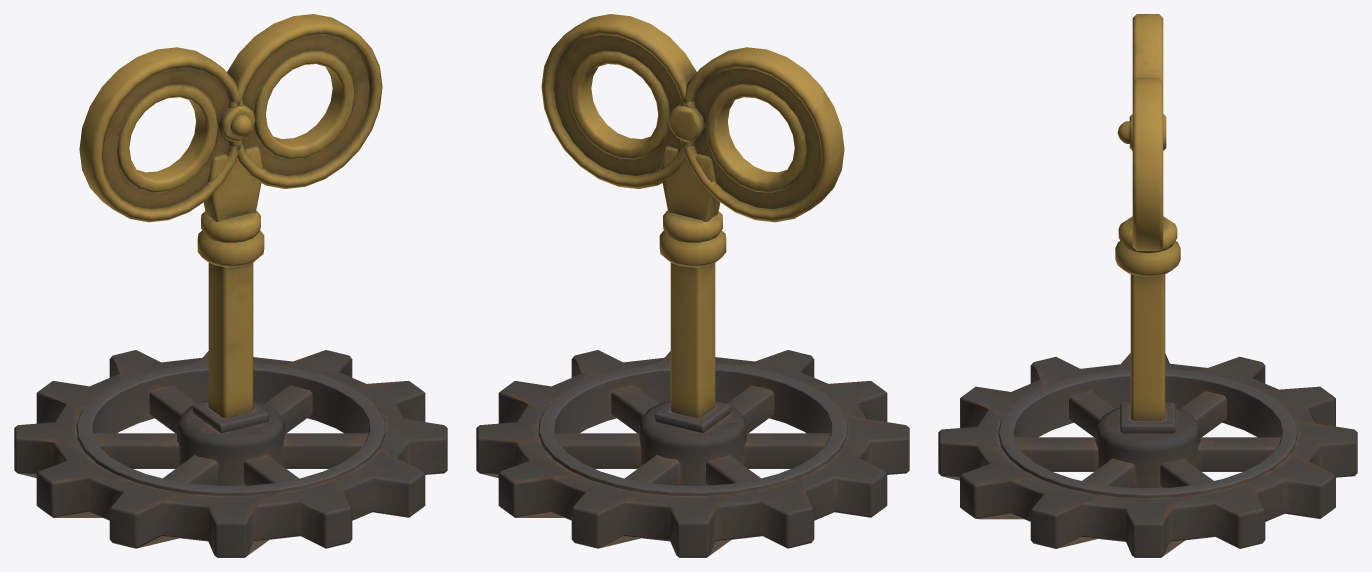
File: wind-up-key.glb
3 views of the same model, side by side, from view 1: azimuth 30°, elevation 25°; view 2: azimuth 150°, elevation 25°; view 3: azimuth 270°, elevation 25° (orthographic). The views are drawn at different scales.
Visible parts, largest first — view 1: wind-up-key; view 2: wind-up-key; view 3: wind-up-key.
Boxes of the visible parts, x1=… form: wind-up-key: x1=14, y1=14, x2=447, y2=557; wind-up-key: x1=476, y1=14, x2=909, y2=557; wind-up-key: x1=938, y1=14, x2=1357, y2=557.
Bounding box in the file's own units: 0.7978 × 0.875 × 0.7978.
1 material, 1 textured.
